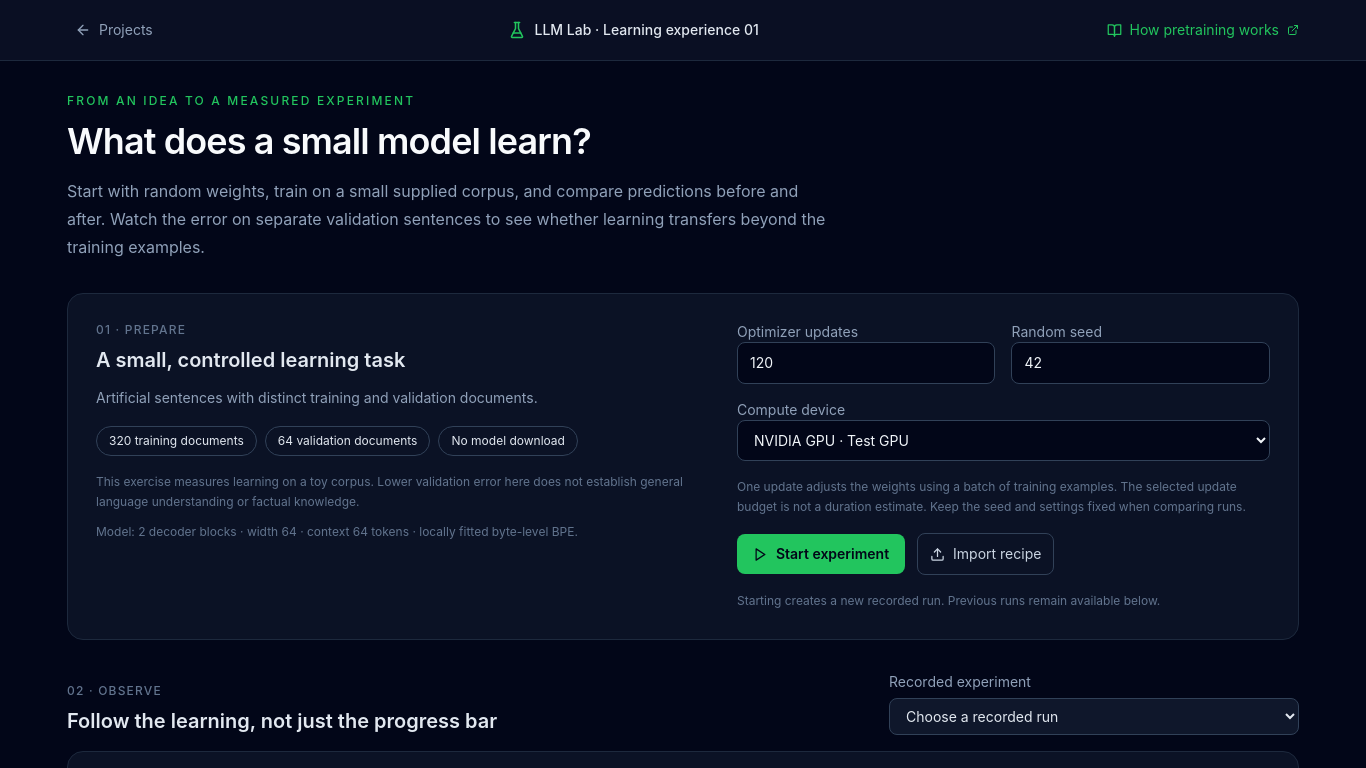
Test case: Guided learning experience › rejects recipes containing executable or unknown fields and validates the budget
Replace the text in the number field labelled "Optimizer updates" with "301". click: (866, 363)
box: x1=737 y1=342 x2=996 y2=384
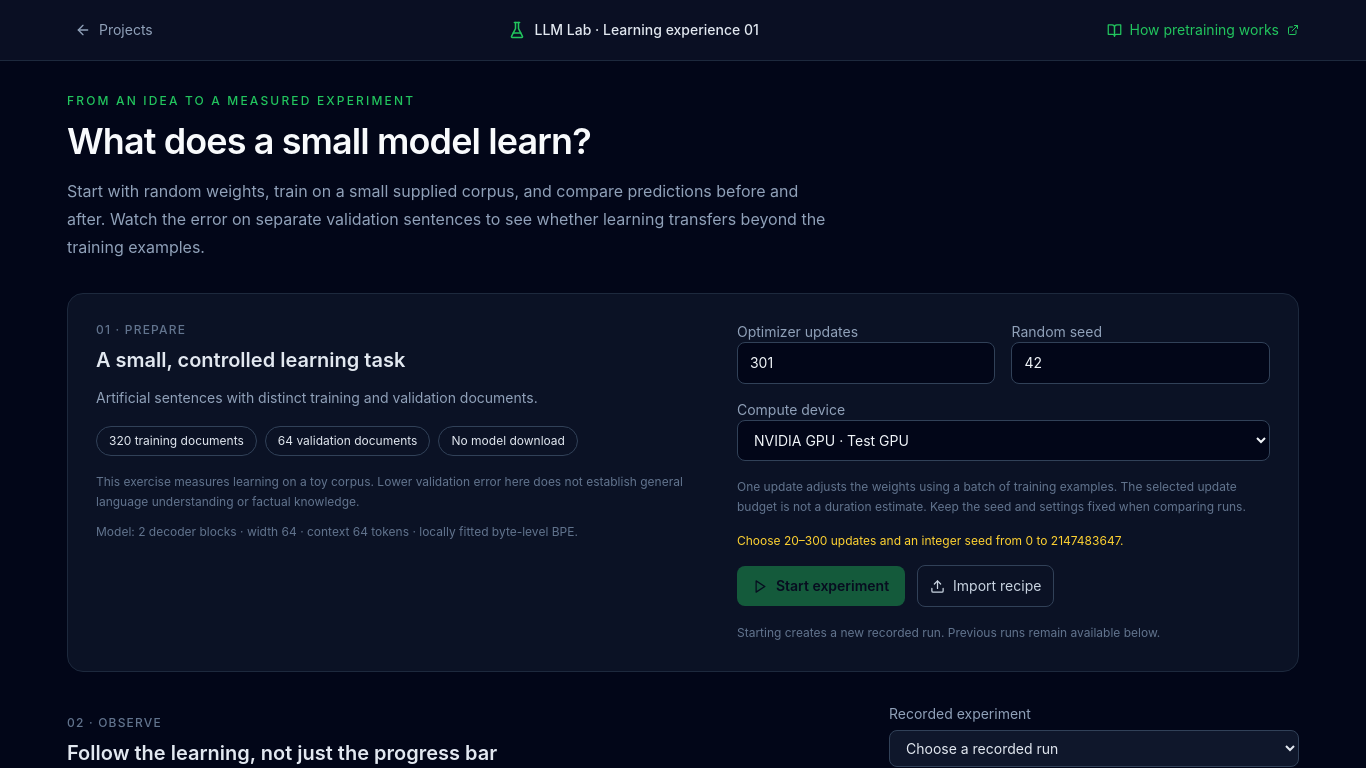
Now the button "Start experiment" is disabled, box x1=737 y1=566 x2=905 y2=606
